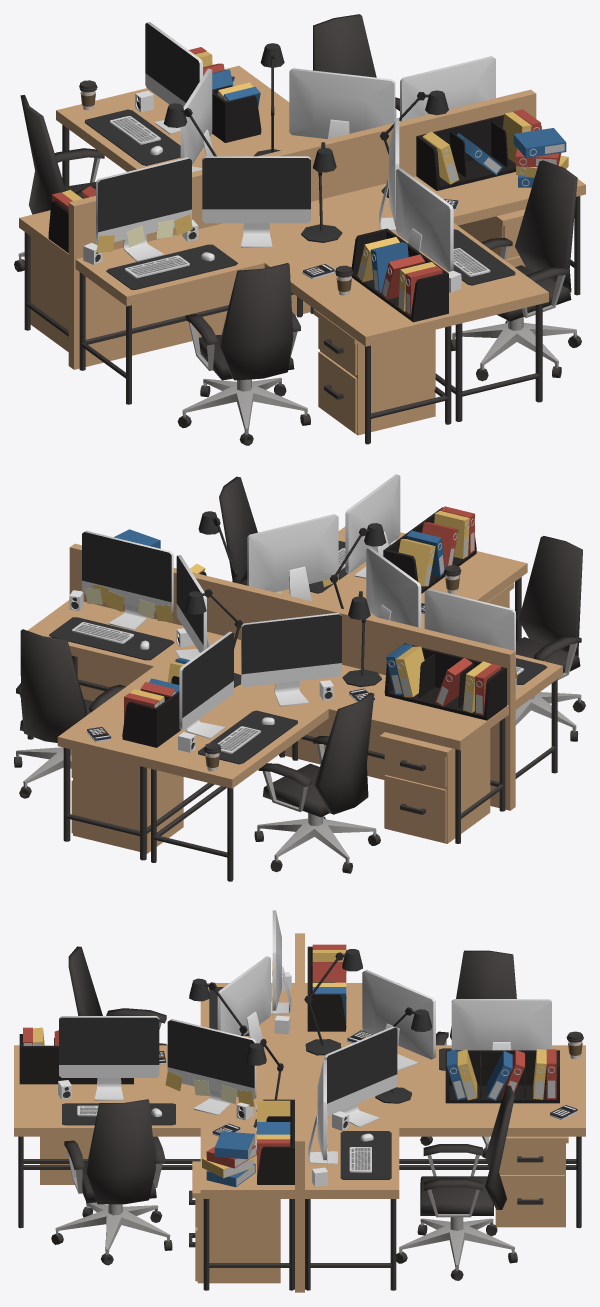
The model's file is Group_desk_01.FBX.
3 views of the same model, one above another, from view 1: azimuth 30°, elevation 25°; view 2: azimuth 150°, elevation 25°; view 3: azimuth 270°, elevation 25° (orthographic). The views are drawn at different scales.
Parts seen in each view (by area): view 1: desk2, desk1, chair_02, drawer03 (×3), desk patition2, chair_01, monitor2, desk patiton1, monitor1, monitor6, desk4, shelf1 (+30 smaller); view 2: desk4, drawer03 (×2), desk3, chair_04, desk patiton4, chair_02, chair_03, monitor8, monitor4, monitor5, desk patition3, desk2 (+25 smaller); view 3: desk3, desk1, chair_01, drawer03 (×3), chair_03, monitor3, monitor4, monitor7, monitor6, desk4, monitor8, desk2 (+29 smaller).
Part boxes in pixels (<box>): desk2: <box>75,208,457,444</box>; desk1: <box>310,172,585,421</box>; chair_02: <box>177,263,310,445</box>; drawer03 (×3): <box>30,209,525,435</box>; desk patition2: <box>71,148,305,369</box>; chair_01: <box>451,160,581,381</box>; monitor2: <box>202,156,310,247</box>; desk patiton1: <box>303,91,536,313</box>; monitor1: <box>96,157,191,261</box>; monitor6: <box>289,68,395,138</box>; desk4: <box>19,88,240,336</box>; shelf1: <box>416,115,541,190</box>; desk4: <box>145,664,508,881</box>; drawer03 (×2): <box>73,729,490,853</box>; desk3: <box>27,600,284,860</box>; chair_04: <box>254,692,380,873</box>; desk patiton4: <box>290,599,512,810</box>; chair_02: <box>515,536,585,741</box>; chair_03: <box>14,629,126,798</box>; monitor8: <box>241,612,341,706</box>; monitor4: <box>247,514,338,601</box>; monitor5: <box>82,530,173,630</box>; desk patition3: <box>69,545,292,756</box>; desk2: <box>348,551,562,778</box>; desk3: <box>305,1086,585,1290</box>; desk1: <box>14,1086,294,1290</box>; chair_01: <box>51,1099,172,1265</box>; drawer03 (×3): <box>40,1136,568,1283</box>; chair_03: <box>396,1085,517,1280</box>; monitor3: <box>59,1016,159,1100</box>; monitor4: <box>167,1019,256,1115</box>; monitor7: <box>451,999,551,1050</box>; monitor6: <box>324,1026,397,1127</box>; desk4: <box>305,983,585,1163</box>; monitor8: <box>362,970,435,1070</box>; desk2: <box>14,983,294,1163</box>.
Size of the model in its own units: 333 by 144 by 386.
Materials: 1 (1 with a texture image).
